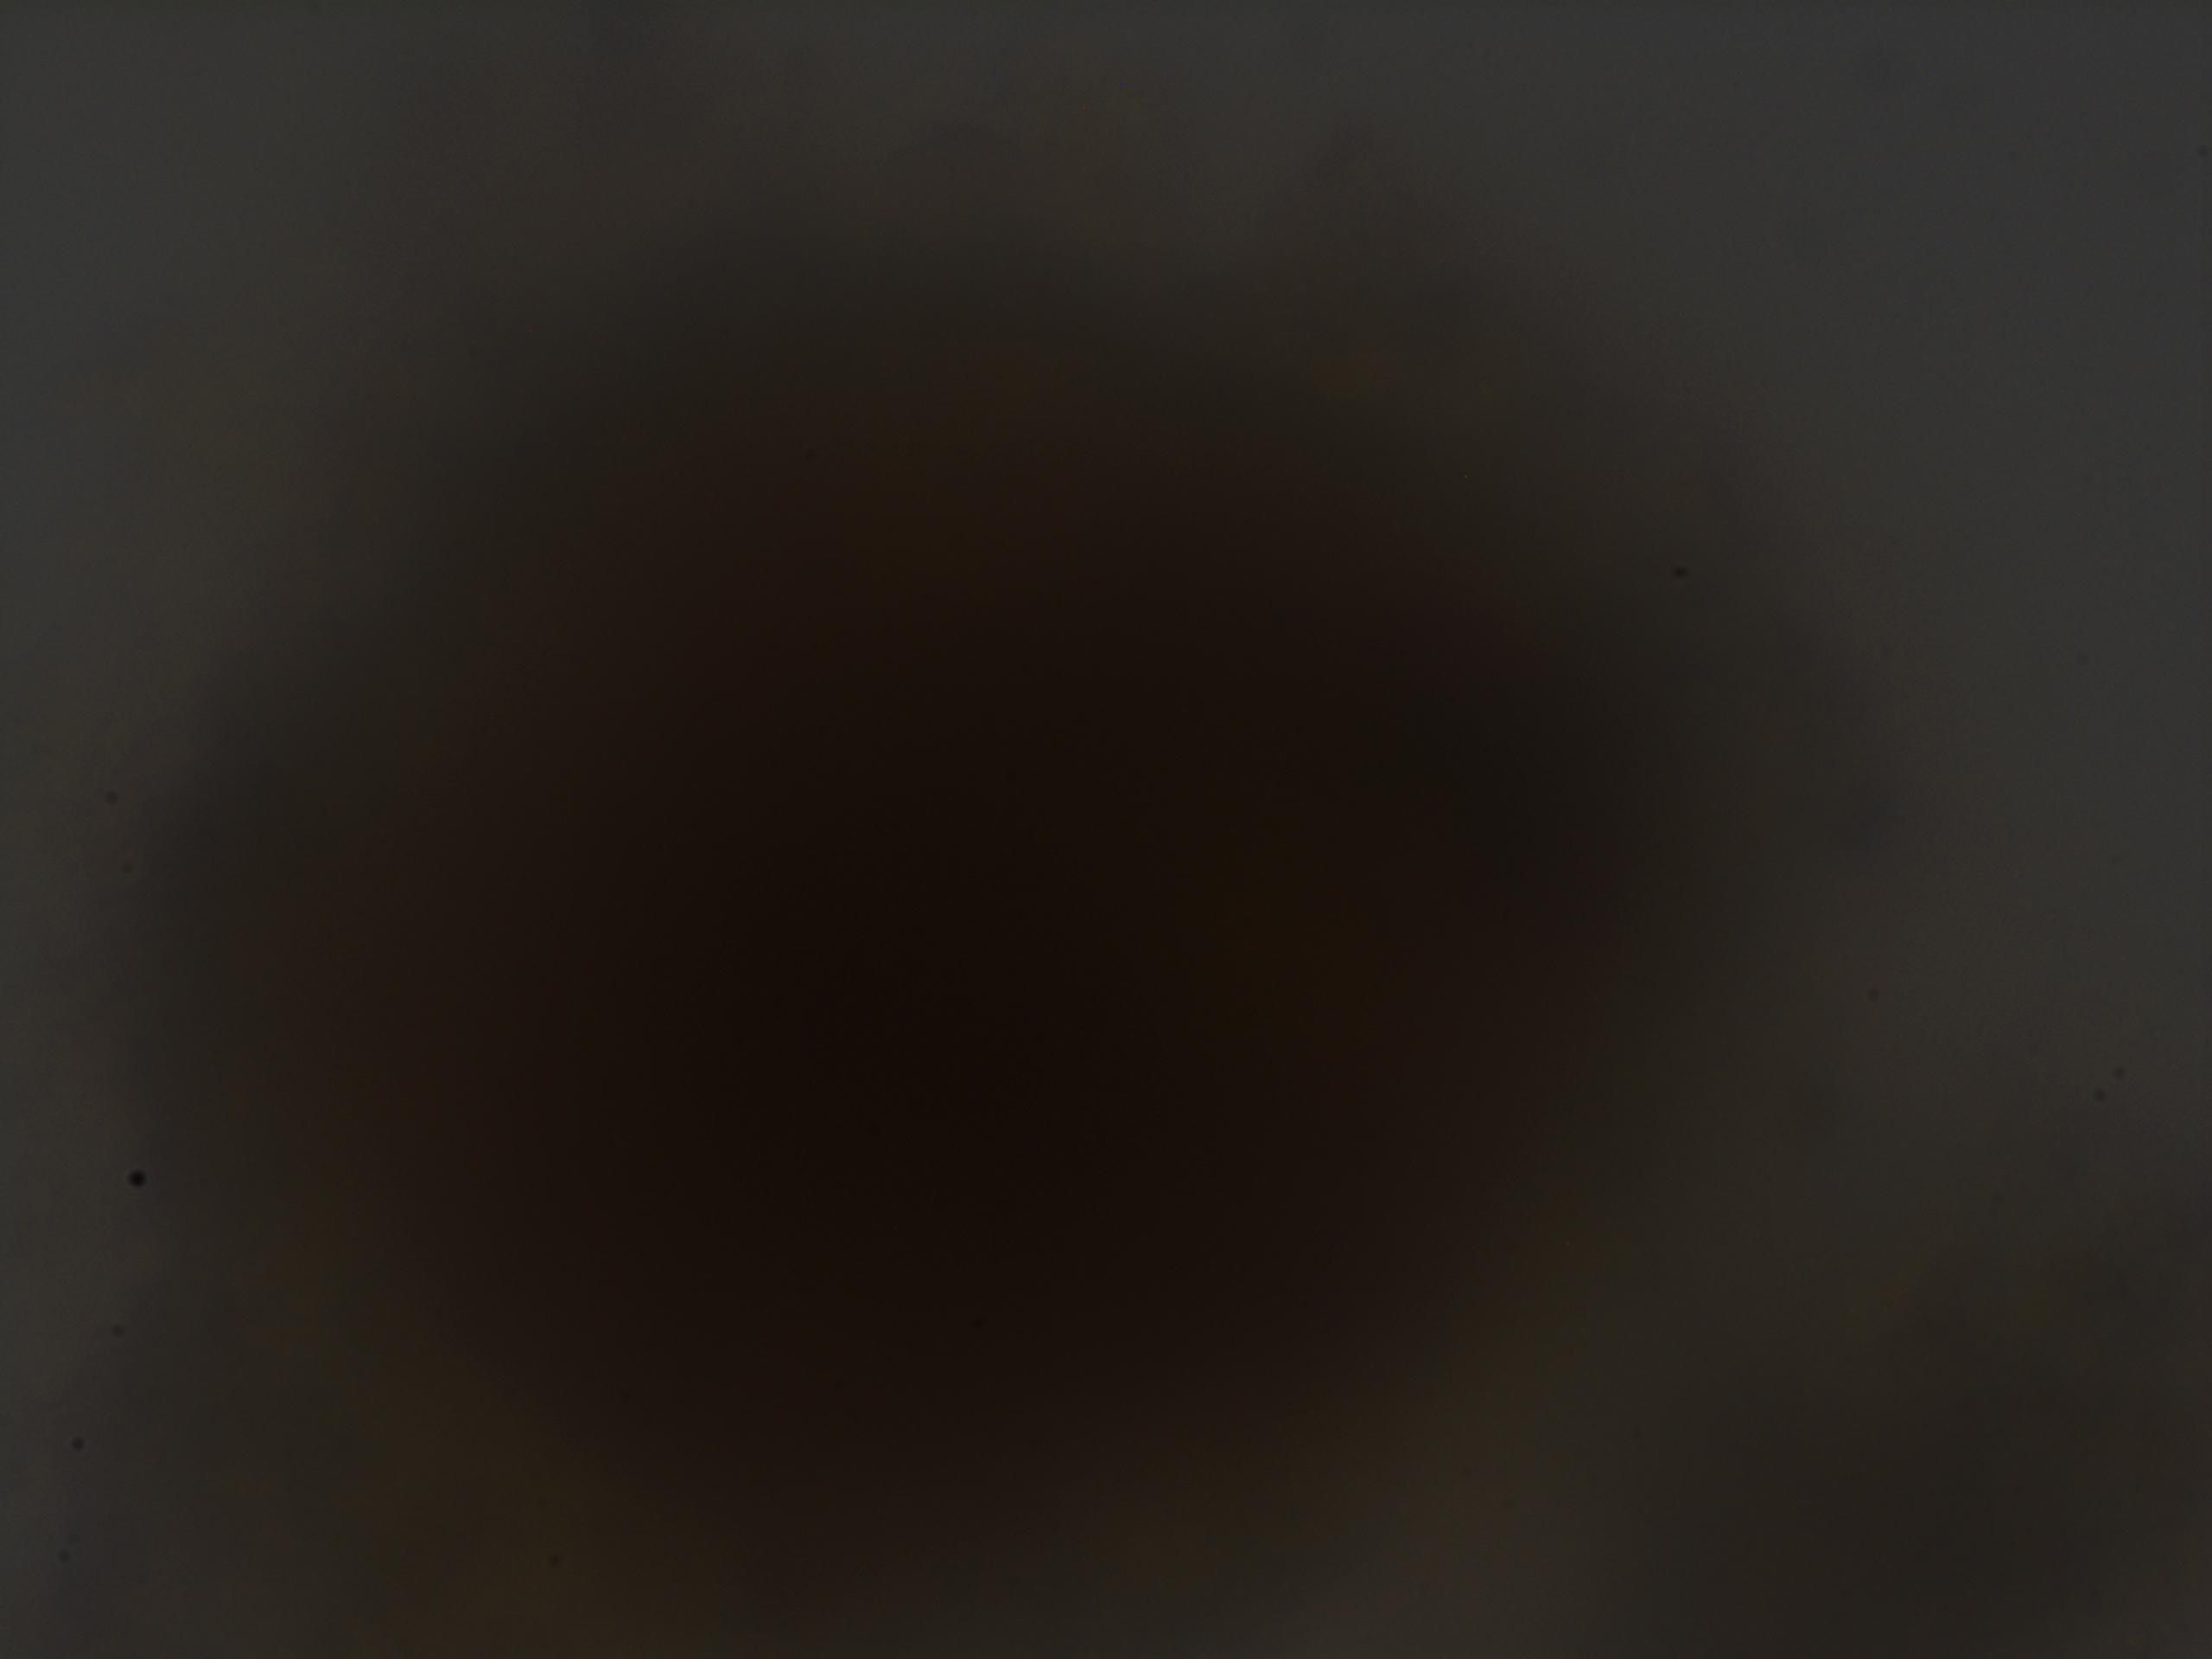spherical_floc: (131, 148, 1791, 1659)
